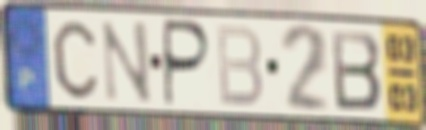2: (278, 22, 334, 115)
B: (328, 27, 384, 112), (213, 22, 265, 110)
C: (50, 18, 100, 103)
N: (99, 18, 155, 106)
P: (162, 16, 213, 110)
